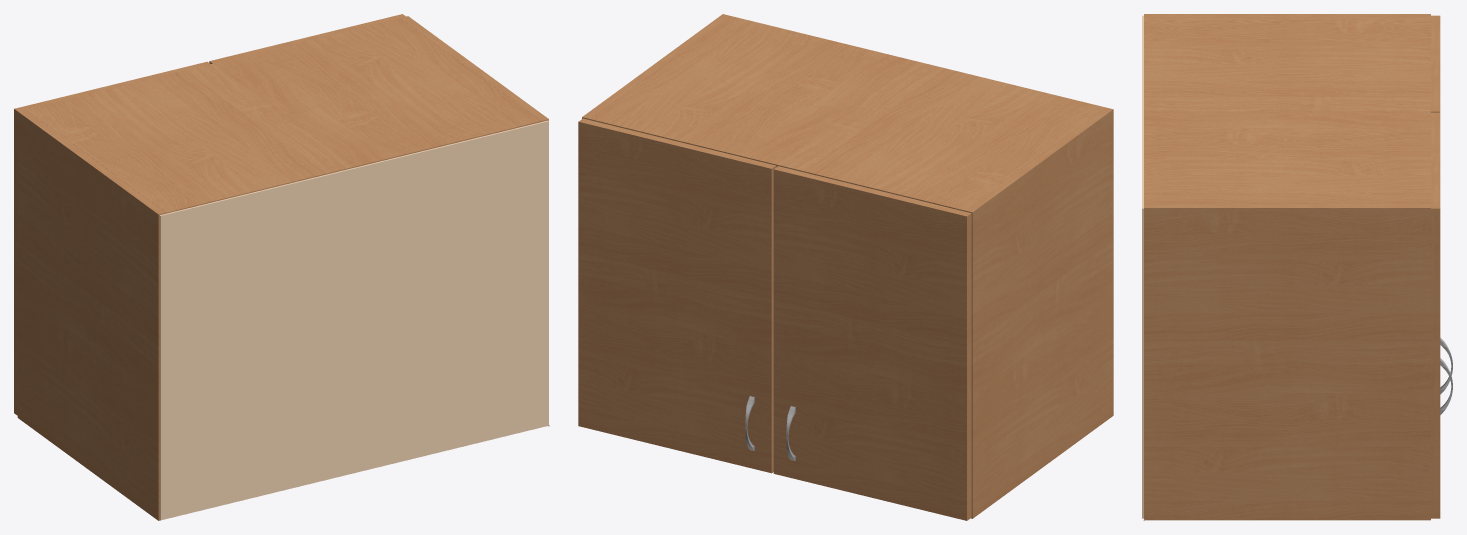
Rendered from antresol_dlya_shkafa_4.glb.
3 renders of one model, left to right at view 1: azimuth 30°, elevation 25°; view 2: azimuth 150°, elevation 25°; view 3: azimuth 270°, elevation 25°, orthographic.
Visible parts, largest first — view 1: Shape_IndexedFaceSet.012, Shape_IndexedFaceSet.024, Shape_IndexedFaceSet.020, Shape_IndexedFaceSet.008, Shape_IndexedFaceSet.015, Shape_IndexedFaceSet.019, Shape_IndexedFaceSet.009, Shape_IndexedFaceSet.003; view 2: Shape_IndexedFaceSet.011, Shape_IndexedFaceSet.005, Shape_IndexedFaceSet.024, Shape_IndexedFaceSet.020, Shape_IndexedFaceSet.008, Shape_IndexedFaceSet.015, Shape_IndexedFaceSet.019, Shape_IndexedFaceSet.009, Shape_IndexedFaceSet.003, Shape_IndexedFaceSet.002, Shape_IndexedFaceSet.023, Shape_IndexedFaceSet.018; view 3: Shape_IndexedFaceSet.016, Shape_IndexedFaceSet.024, Shape_IndexedFaceSet.004, Shape_IndexedFaceSet.015, Shape_IndexedFaceSet.019, Shape_IndexedFaceSet.012, Shape_IndexedFaceSet.003, Shape_IndexedFaceSet.009.
Part boxes in pixels (x1,y1,x2,y2): Shape_IndexedFaceSet.012: [159, 120, 548, 520]; Shape_IndexedFaceSet.024: [26, 18, 541, 213]; Shape_IndexedFaceSet.020: [17, 111, 166, 520]; Shape_IndexedFaceSet.008: [14, 109, 17, 415]; Shape_IndexedFaceSet.015: [401, 16, 548, 120]; Shape_IndexedFaceSet.019: [18, 109, 165, 214]; Shape_IndexedFaceSet.009: [14, 61, 210, 111]; Shape_IndexedFaceSet.003: [209, 14, 405, 63]; Shape_IndexedFaceSet.011: [773, 169, 966, 520]; Shape_IndexedFaceSet.005: [578, 121, 771, 473]; Shape_IndexedFaceSet.024: [590, 16, 1105, 210]; Shape_IndexedFaceSet.020: [972, 109, 1113, 518]; Shape_IndexedFaceSet.008: [967, 213, 971, 520]; Shape_IndexedFaceSet.015: [582, 14, 729, 118]; Shape_IndexedFaceSet.019: [965, 107, 1112, 212]; Shape_IndexedFaceSet.009: [774, 166, 971, 216]; Shape_IndexedFaceSet.003: [579, 118, 775, 168]; Shape_IndexedFaceSet.002: [771, 166, 776, 472]; Shape_IndexedFaceSet.023: [590, 119, 964, 211]; Shape_IndexedFaceSet.018: [964, 210, 972, 518]; Shape_IndexedFaceSet.016: [1144, 208, 1430, 520]; Shape_IndexedFaceSet.024: [1144, 18, 1430, 204]; Shape_IndexedFaceSet.004: [1431, 208, 1440, 518]; Shape_IndexedFaceSet.015: [1144, 204, 1430, 207]; Shape_IndexedFaceSet.019: [1144, 14, 1430, 17]; Shape_IndexedFaceSet.012: [1142, 15, 1143, 518]; Shape_IndexedFaceSet.003: [1431, 112, 1440, 208]; Shape_IndexedFaceSet.009: [1431, 15, 1440, 111].
Size of the model in its own units: 801 by 601 by 542.
Materials: 26 (24 with a texture image).
